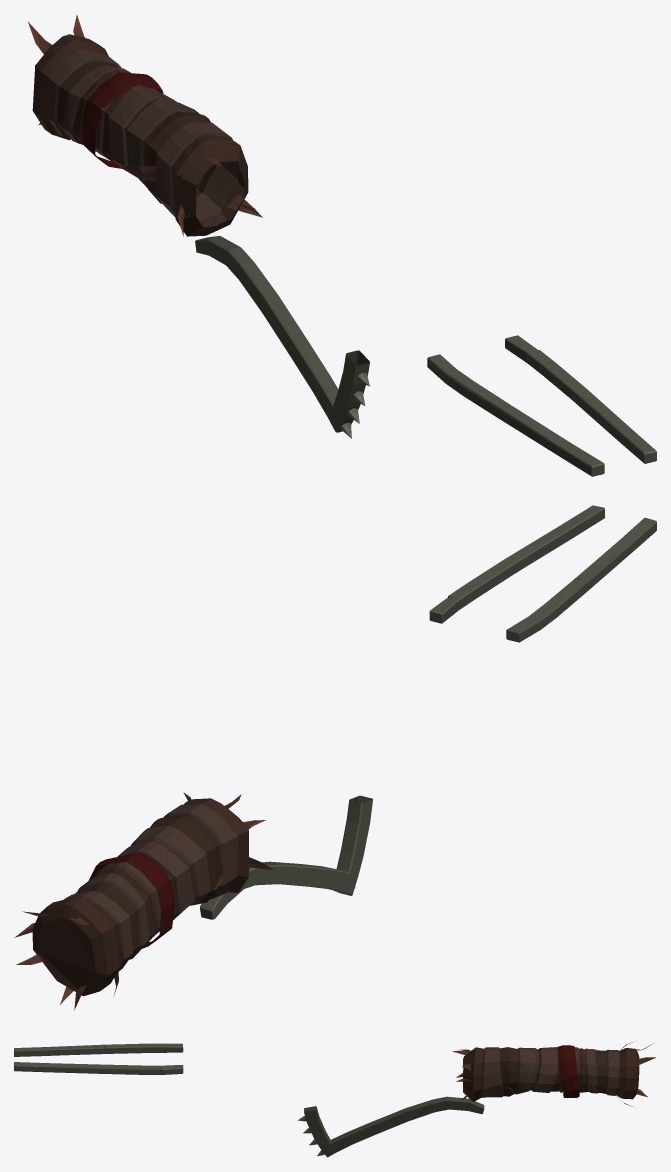
The model's file is largeCrossbowVikingHandle.glb.
The picture shows the model from 3 angles, top to bottom: view 1: azimuth 30°, elevation 25°; view 2: azimuth 150°, elevation 25°; view 3: azimuth 270°, elevation 25°; orthographic projection. The views are drawn at different scales.
Parts seen in each view (by area): view 1: largeCrossbowVikingHandle; view 2: largeCrossbowVikingHandle; view 3: largeCrossbowVikingHandle.
Part boxes in pixels (x1=…): largeCrossbowVikingHandle: x1=28, y1=14, x2=656, y2=476; largeCrossbowVikingHandle: x1=14, y1=505, x2=656, y2=1009; largeCrossbowVikingHandle: x1=14, y1=1042, x2=655, y2=1157.
Bounding box in the file's own units: 0.095 × 0.1749 × 0.9107.
